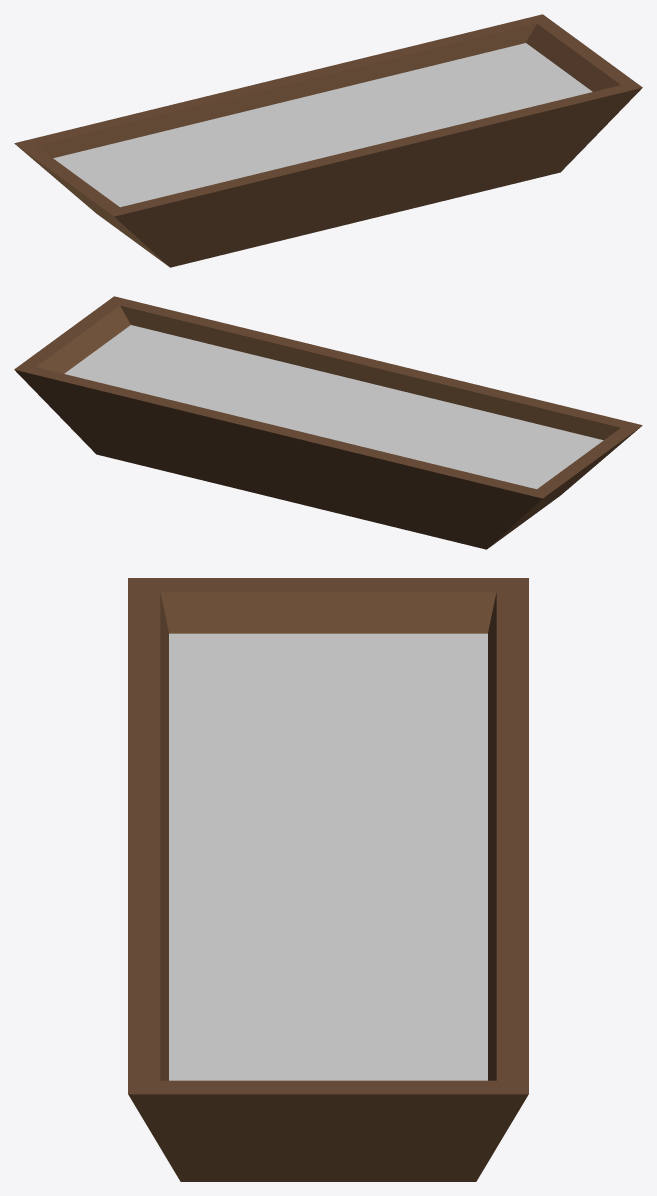
The model's file is Horse_tray_1_snow_mat.fbx.
3 views of the same model, one above another, from view 1: azimuth 30°, elevation 25°; view 2: azimuth 150°, elevation 25°; view 3: azimuth 270°, elevation 25° (orthographic). The views are drawn at different scales.
Visible parts, largest first — view 1: Horse_tray_1_snow_mat; view 2: Horse_tray_1_snow_mat; view 3: Horse_tray_1_snow_mat.
Boxes of the visible parts, x1,y1,x2,y2 form: Horse_tray_1_snow_mat: (14,14,642,267); Horse_tray_1_snow_mat: (14,296,642,549); Horse_tray_1_snow_mat: (128,578,528,1181).
Size of the model in its own units: 171 by 24.03 by 56.21.
